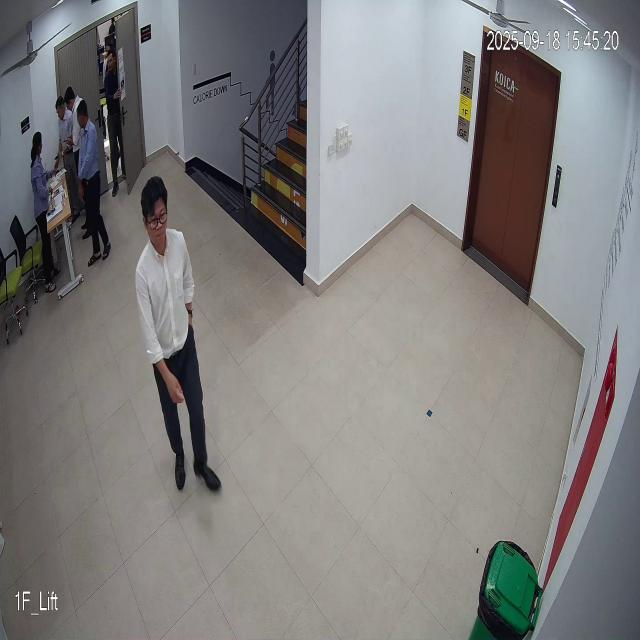face: (141, 174, 169, 249)
